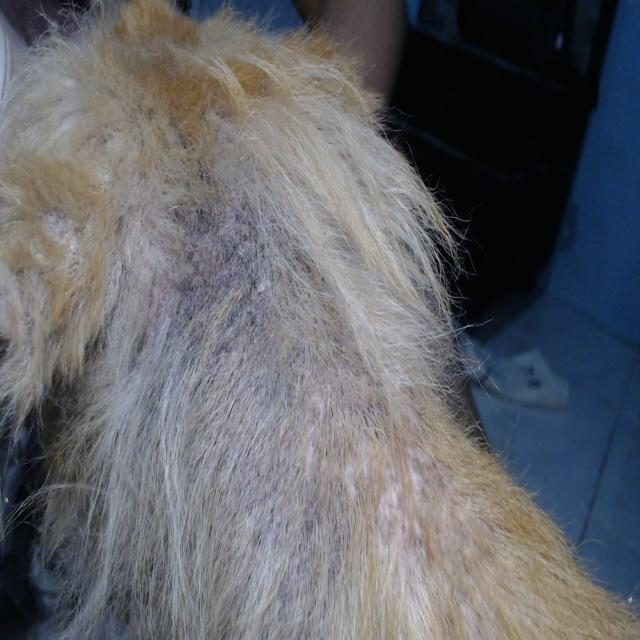demodicosis: (149, 218, 386, 587)
